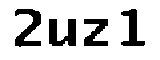1: (118, 6, 148, 49)
2: (9, 7, 45, 48)
u: (48, 15, 79, 50)
z: (81, 17, 112, 50)
